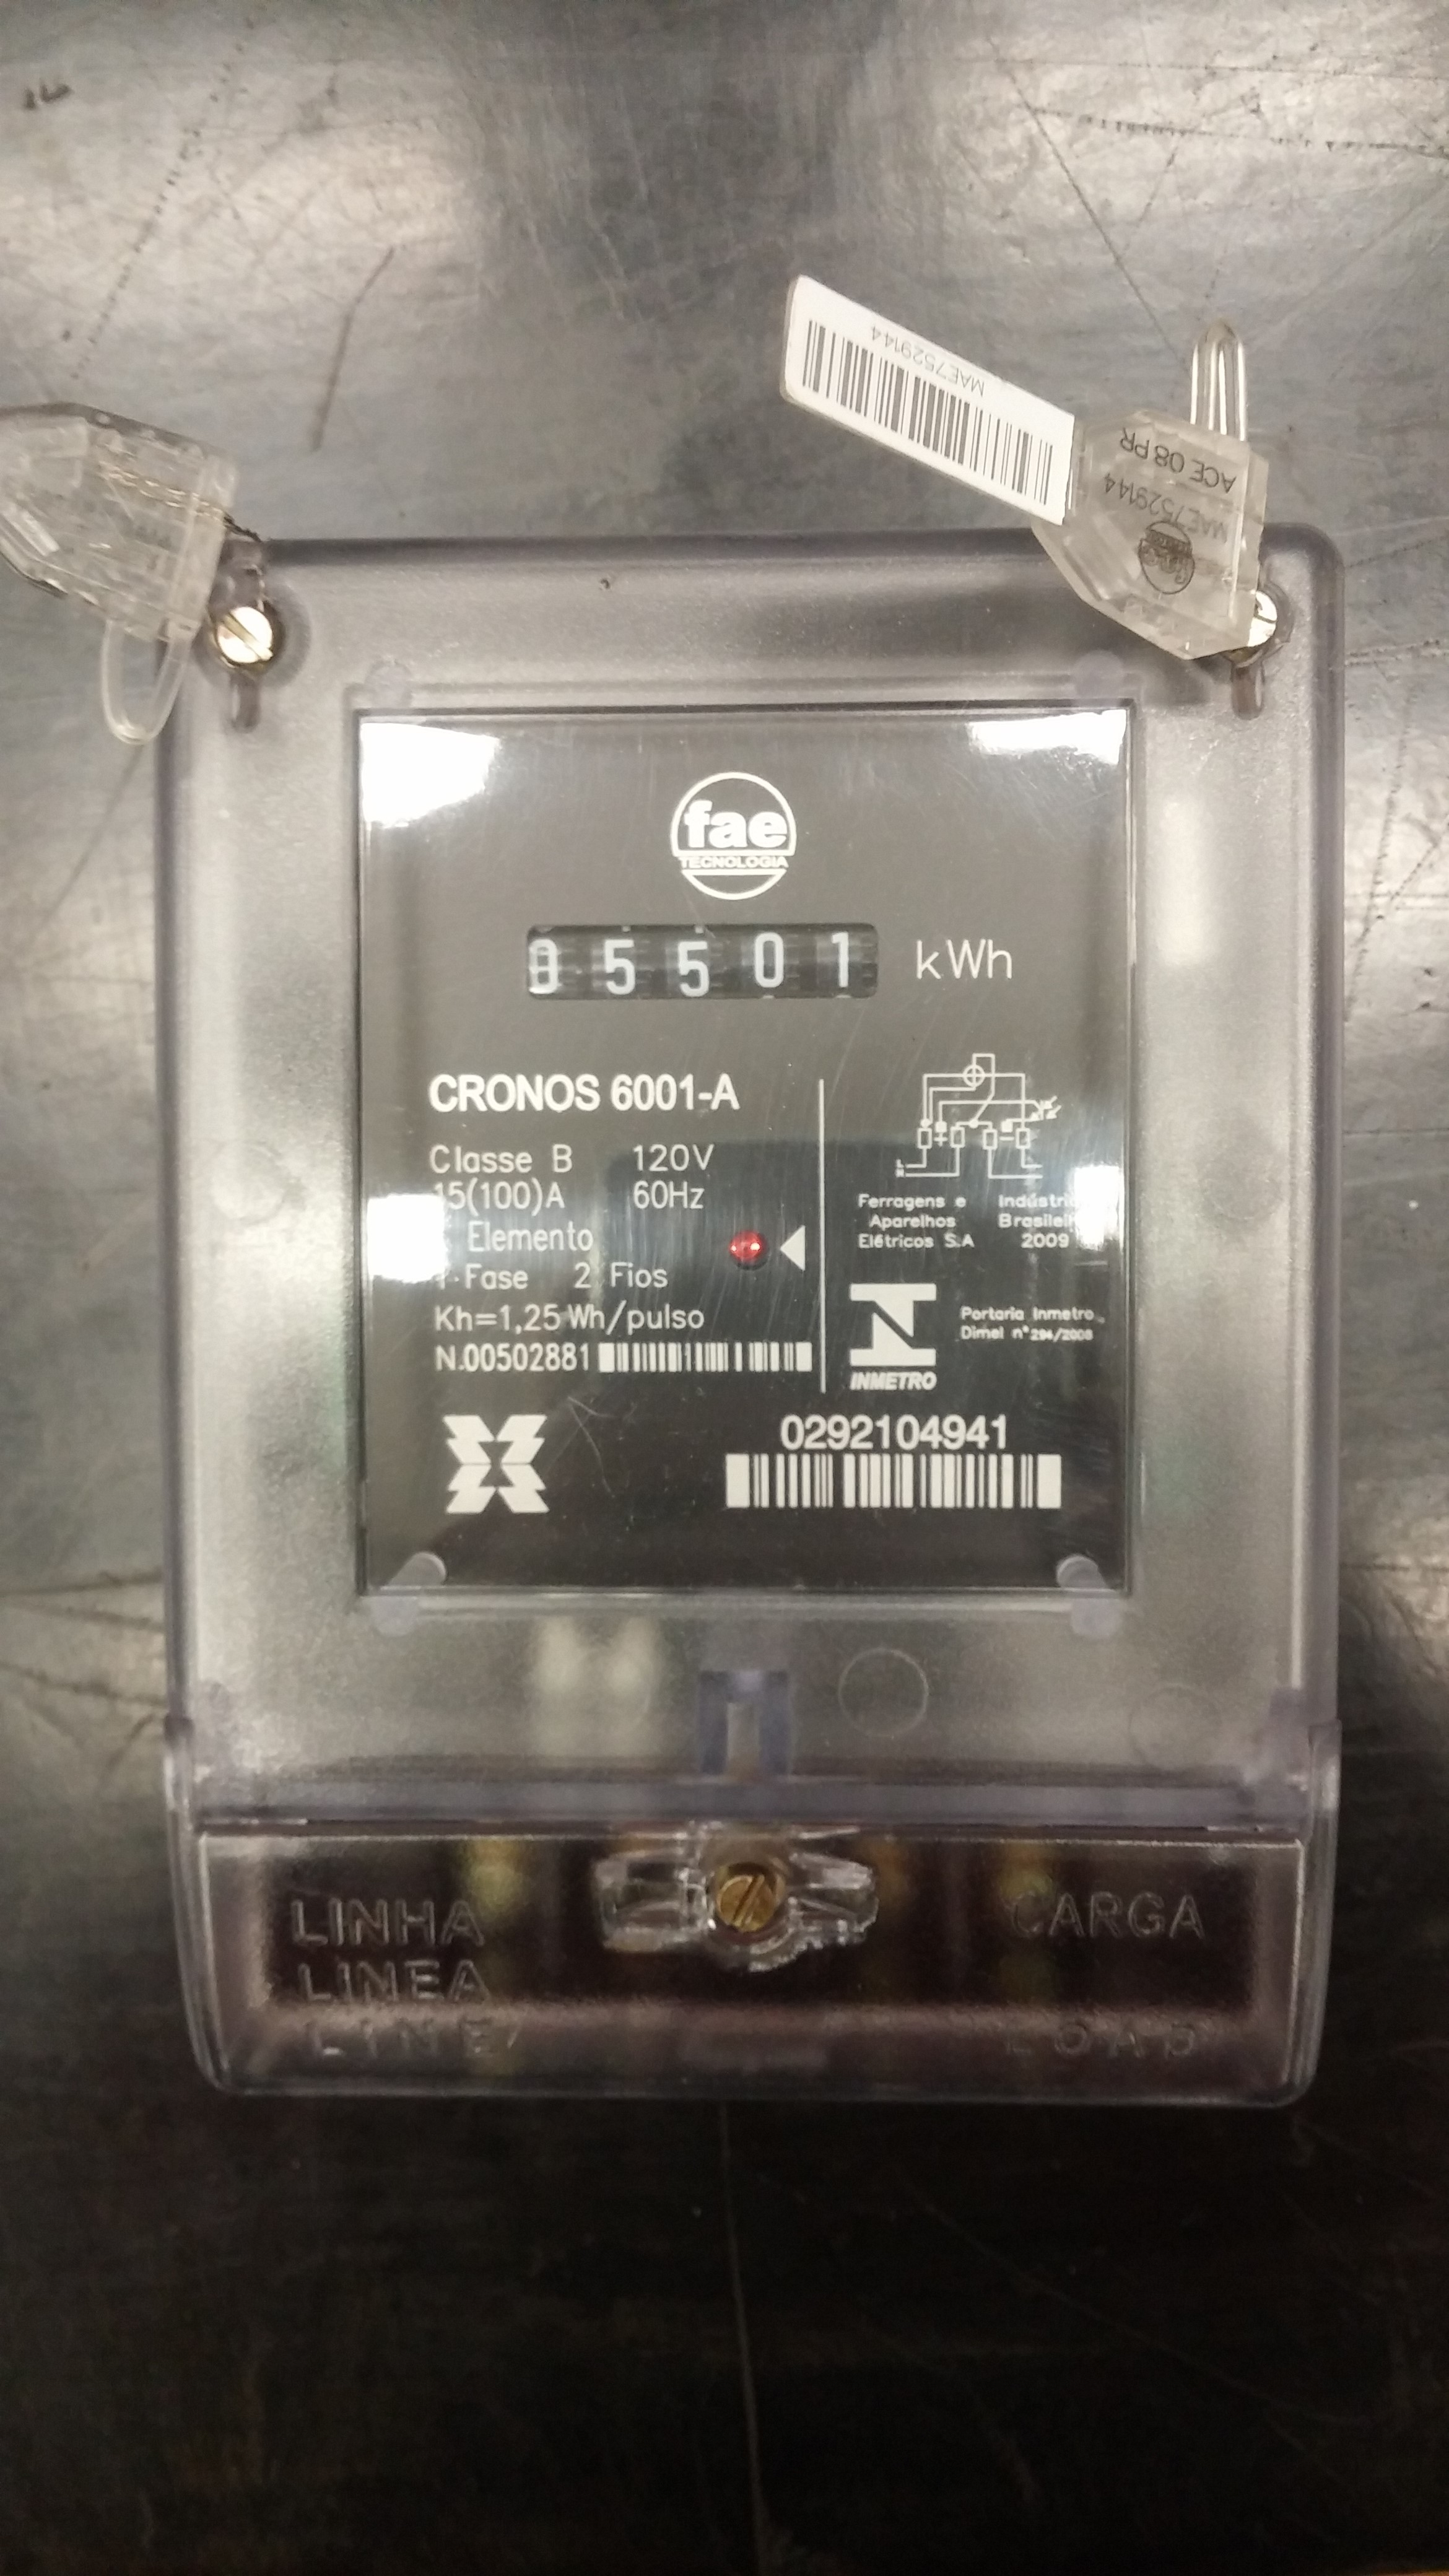counter1: (515, 918, 890, 1007)
